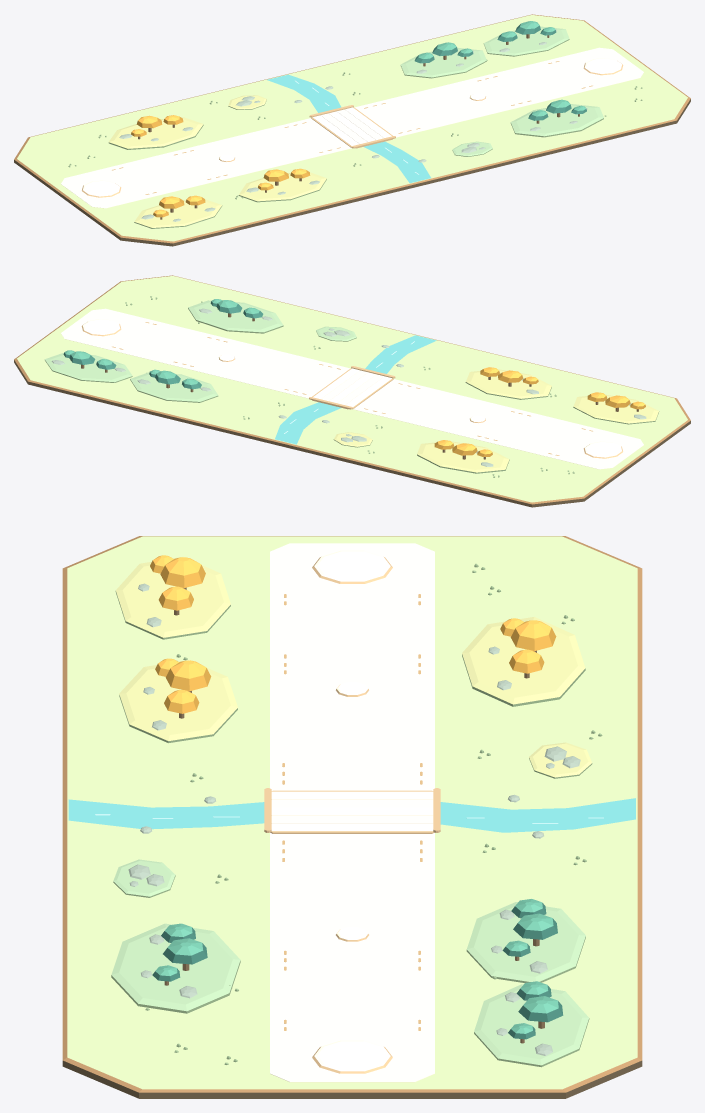
File: aram.glb
3 renders of one model, top to bottom at view 1: azimuth 30°, elevation 25°; view 2: azimuth 150°, elevation 25°; view 3: azimuth 270°, elevation 25°, orthographic. The views are drawn at different scales.
Visible parts, largest first — view 1: Clipped earth board.001, Ivory lane.001, Mint river.001, Grove plateau.009, Grove plateau.006, Grove plateau.008, Grove plateau.007, Grove plateau.012, Grove plateau.013, Nexus stone footprint • orange, Nexus stone footprint • blue, Grove plateau.011; view 2: Clipped earth board.001, Ivory lane.001, Mint river.001, Grove plateau.009, Grove plateau.006, Grove plateau.008, Grove plateau.007, Grove plateau.013, Grove plateau.012, Nexus stone footprint • orange, Nexus stone footprint • blue, Grove plateau.011; view 3: Clipped earth board.001, Ivory lane.001, Mint river.001, Grove plateau.009, Grove plateau.006, Grove plateau.008, Grove plateau.007, Grove plateau.013, Grove plateau.012, Nexus stone footprint • blue, Nexus stone footprint • orange, Bridge stone.005 (+12 smaller).
Boxes of the visible parts, x1,y1,x2,y2 form: Clipped earth board.001: [14, 14, 690, 246]; Ivory lane.001: [61, 47, 643, 208]; Mint river.001: [267, 74, 430, 183]; Grove plateau.009: [510, 104, 603, 137]; Grove plateau.006: [108, 117, 203, 149]; Grove plateau.008: [400, 47, 486, 78]; Grove plateau.007: [238, 172, 326, 202]; Grove plateau.012: [134, 199, 222, 228]; Grove plateau.013: [483, 26, 569, 56]; Nexus stone footprint • orange: [583, 58, 623, 75]; Nexus stone footprint • blue: [82, 180, 121, 197]; Grove plateau.011: [452, 141, 492, 156]; Clipped earth board.001: [14, 275, 690, 507]; Ivory lane.001: [61, 308, 643, 469]; Mint river.001: [275, 335, 436, 444]; Grove plateau.009: [188, 300, 283, 333]; Grove plateau.006: [417, 441, 509, 473]; Grove plateau.008: [130, 372, 218, 402]; Grove plateau.007: [465, 369, 551, 399]; Grove plateau.013: [44, 353, 132, 382]; Grove plateau.012: [573, 394, 659, 424]; Nexus stone footprint • orange: [81, 319, 121, 336]; Nexus stone footprint • blue: [583, 441, 622, 458]; Grove plateau.011: [316, 326, 356, 341]; Clipped earth board.001: [62, 536, 642, 1098]; Ivory lane.001: [270, 543, 434, 1082]; Mint river.001: [68, 798, 635, 832]; Grove plateau.009: [111, 923, 240, 1013]; Grove plateau.006: [462, 617, 585, 706]; Grove plateau.008: [466, 902, 585, 982]; Grove plateau.007: [119, 660, 237, 743]; Grove plateau.013: [474, 984, 589, 1067]; Grove plateau.012: [115, 557, 230, 639]; Nexus stone footprint • blue: [312, 550, 392, 583]; Nexus stone footprint • orange: [312, 1040, 392, 1073]; Bridge stone.005: [271, 791, 433, 799].
Bounding box in the file's own units: 125 × 4.67 × 55.
